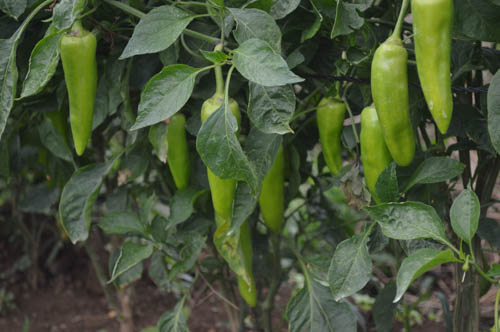ChiliPepper: (410, 1, 454, 130), (372, 44, 417, 163), (59, 37, 96, 154), (204, 100, 239, 216), (358, 106, 390, 195), (256, 140, 285, 226), (316, 101, 345, 169), (163, 117, 187, 183)
